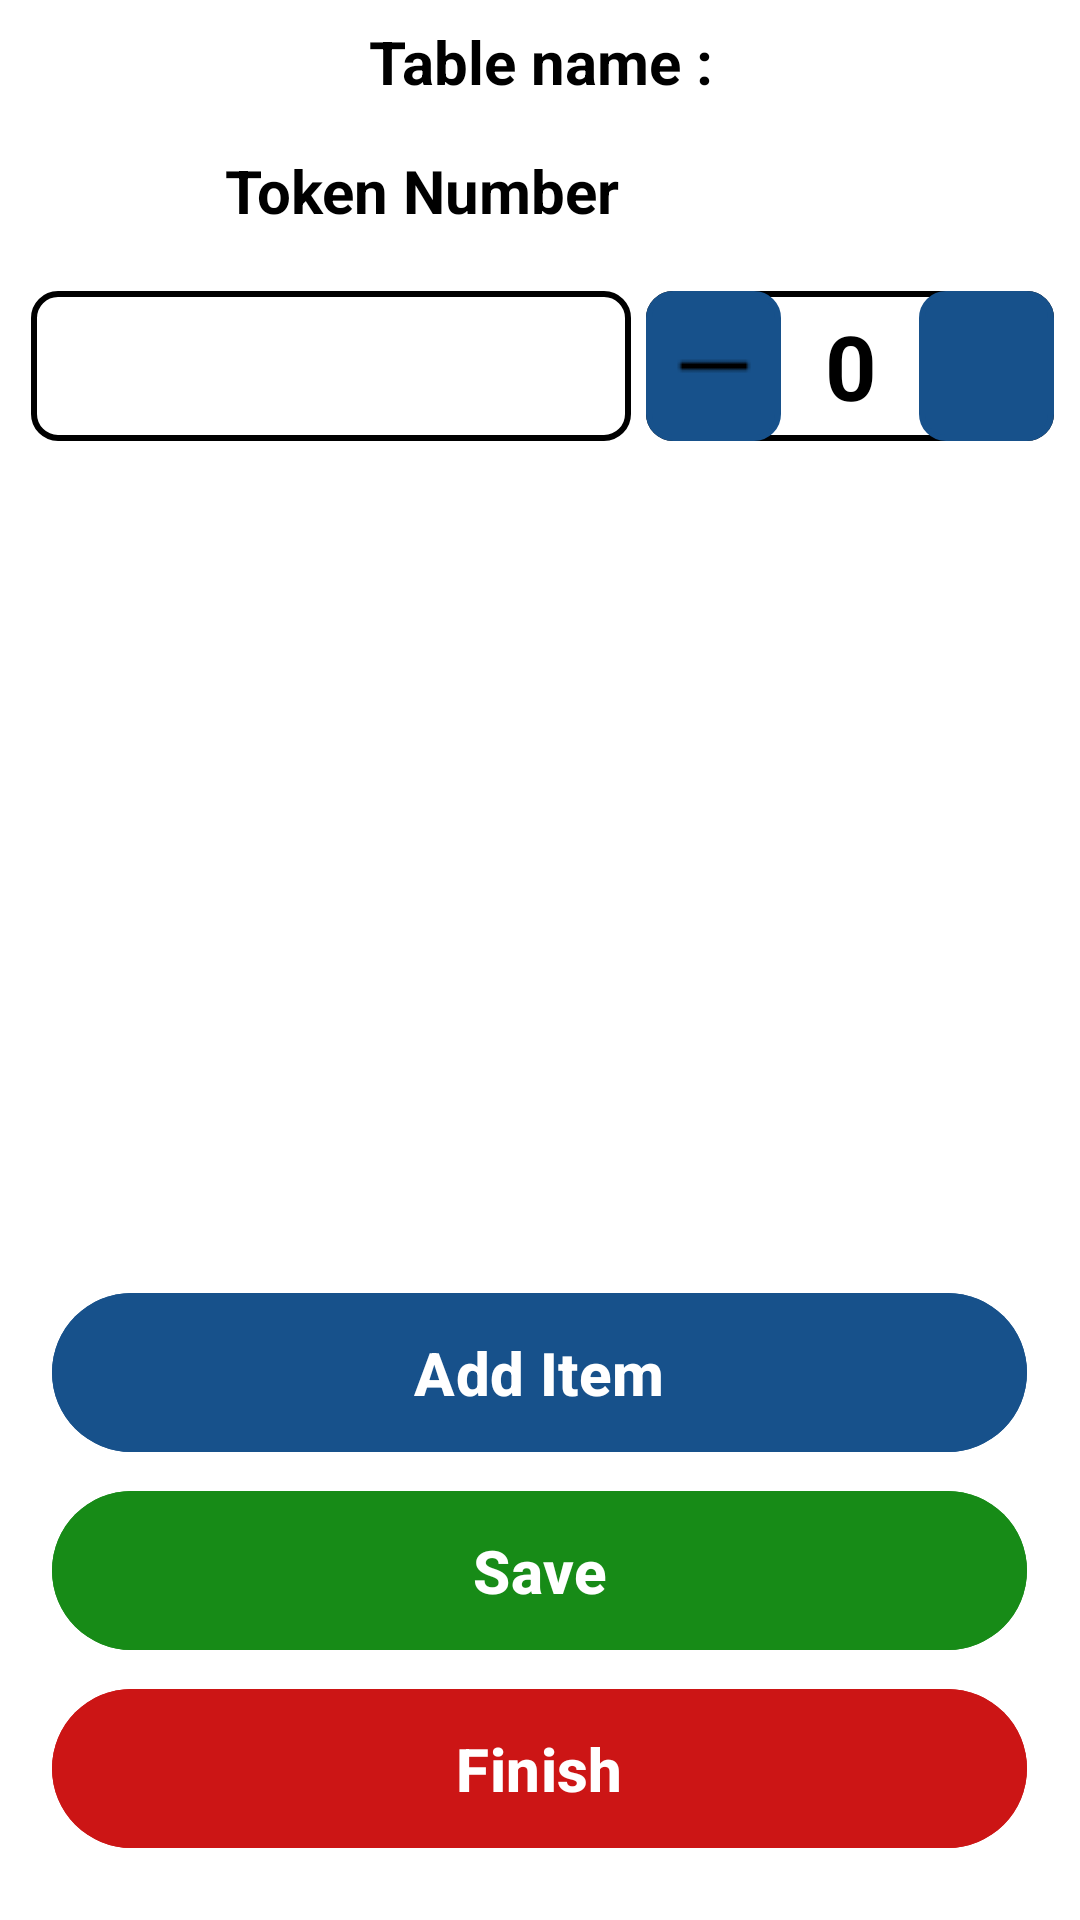

Locate icon controls on the screen. Image size 1080 × 1920, boxes as region(x1, y1, x2, y2).
Decrease Button: region(646, 291, 781, 441)
